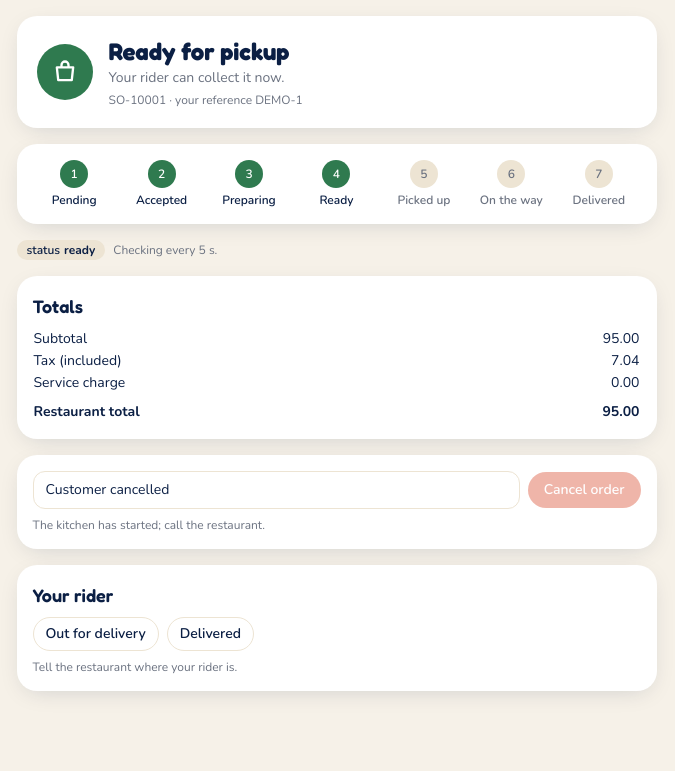
Scenario: OrderPage › explains a 409 invalid_status_change and reloads the order
Expected: the text "ready" is shown, [64, 242, 95, 258]
Click the button "Delivered": (210, 634) [167, 617, 254, 651]
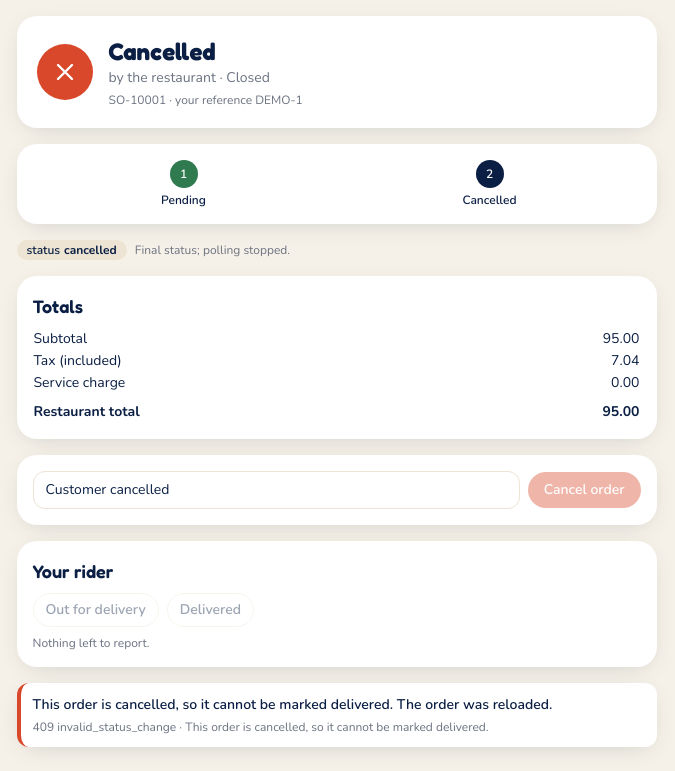
Now the message shows "cannot be marked delivered", box [32, 695, 552, 714]
Now the text with test id "order-status" reads "cancelled", box [64, 242, 117, 258]
